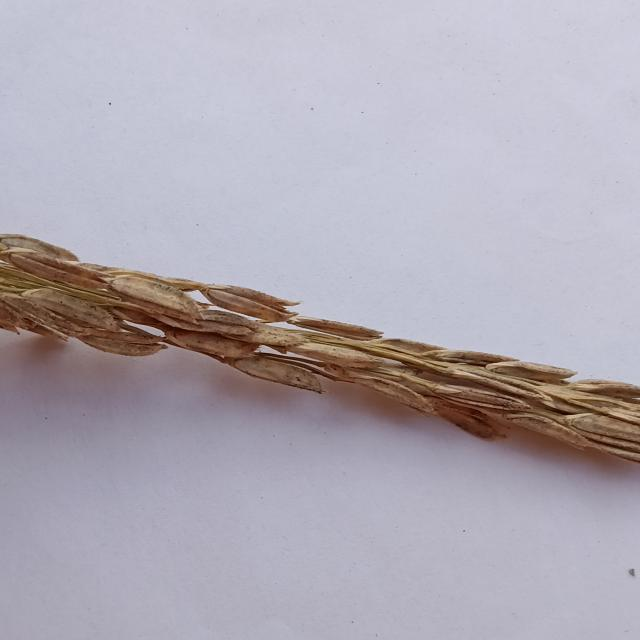Neck_Blast: (3, 240, 640, 459)
